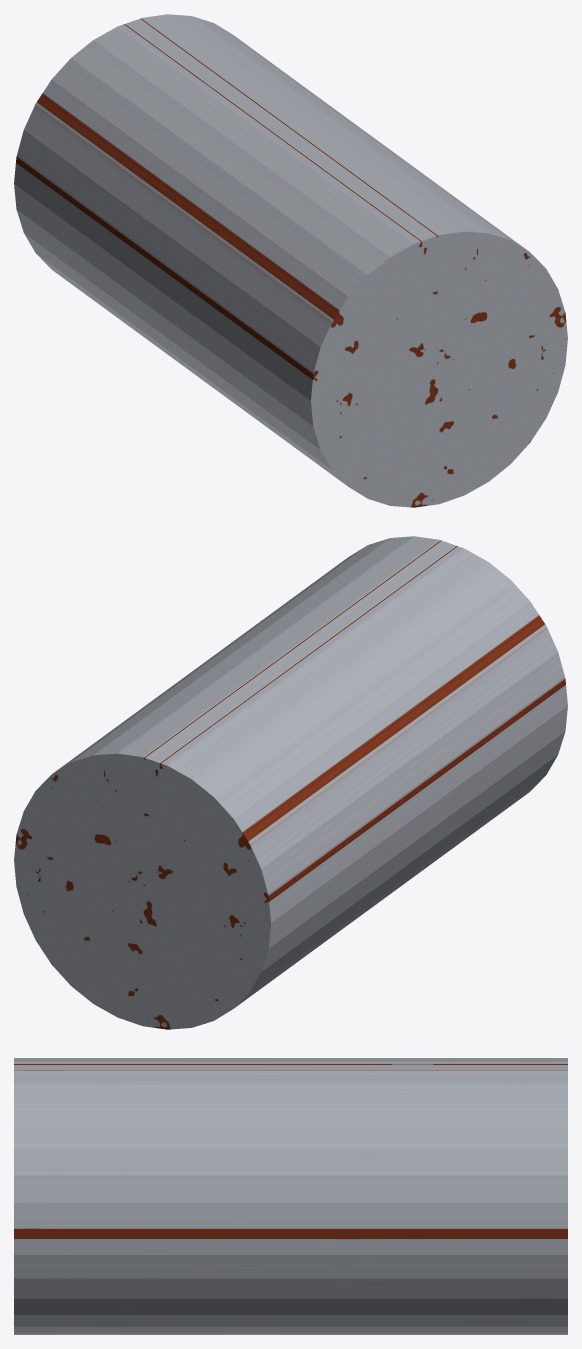
The model's file is pipeline_stage_test.glb.
3 renders of one model, top to bottom at view 1: azimuth 30°, elevation 25°; view 2: azimuth 150°, elevation 25°; view 3: azimuth 270°, elevation 25°, orthographic. The views are drawn at different scales.
Parts seen in each view (by area): view 1: geometry_0; view 2: geometry_0; view 3: geometry_0.
Boxes of the visible parts, x1,y1,x2,y2 form: geometry_0: (14,14,567,507); geometry_0: (14,536,567,1029); geometry_0: (14,1058,567,1334).
Size of the model in its own units: 1 by 1 by 2.
1 material, 1 textured.
